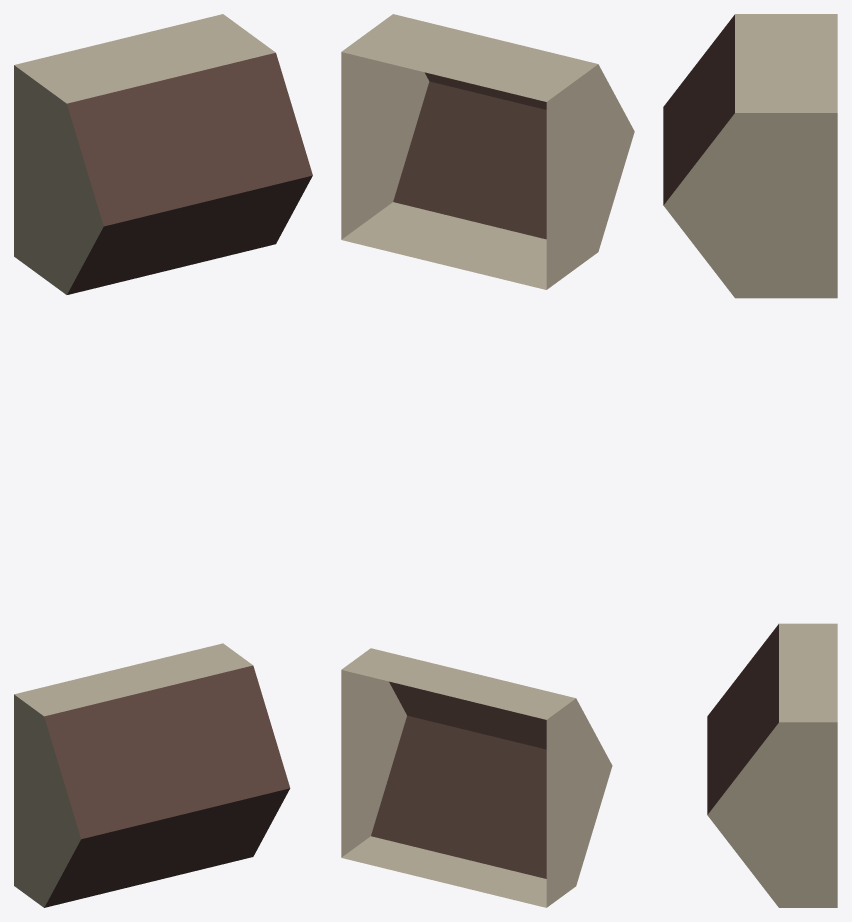
File: island_bldg_21_04.obj
3 views of the same model, side by side, from view 1: azimuth 30°, elevation 25°; view 2: azimuth 150°, elevation 25°; view 3: azimuth 270°, elevation 25° (orthographic). The views are drawn at different scales.
Visible parts, largest first — view 1: island_bldg_21_04; view 2: island_bldg_21_04; view 3: island_bldg_21_04.
Part boxes in pixels (left/top/right/bottom): island_bldg_21_04: left=14, top=14, right=312, bottom=907; island_bldg_21_04: left=341, top=14, right=634, bottom=907; island_bldg_21_04: left=663, top=14, right=837, bottom=907.
Size of the model in its own units: 16 by 60 by 11.9.
